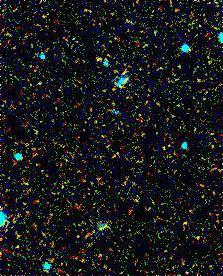star: (82, 47, 112, 77)
